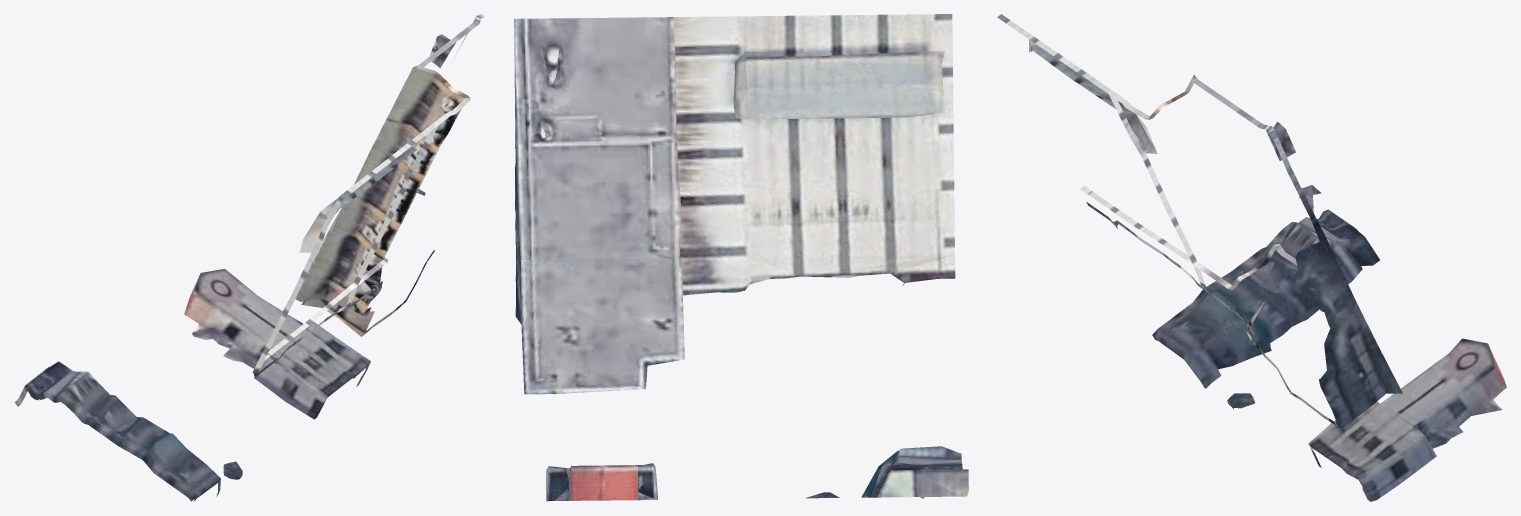
The picture shows the model from 3 angles, left to right: view 1: azimuth 30°, elevation 25°; view 2: azimuth 150°, elevation 25°; view 3: azimuth 270°, elevation 25°; orthographic projection. The views are drawn at different scales.
Size of the model in its own units: 44.33 by 37.31 by 41.39.
Materials: 1 (1 with a texture image).
